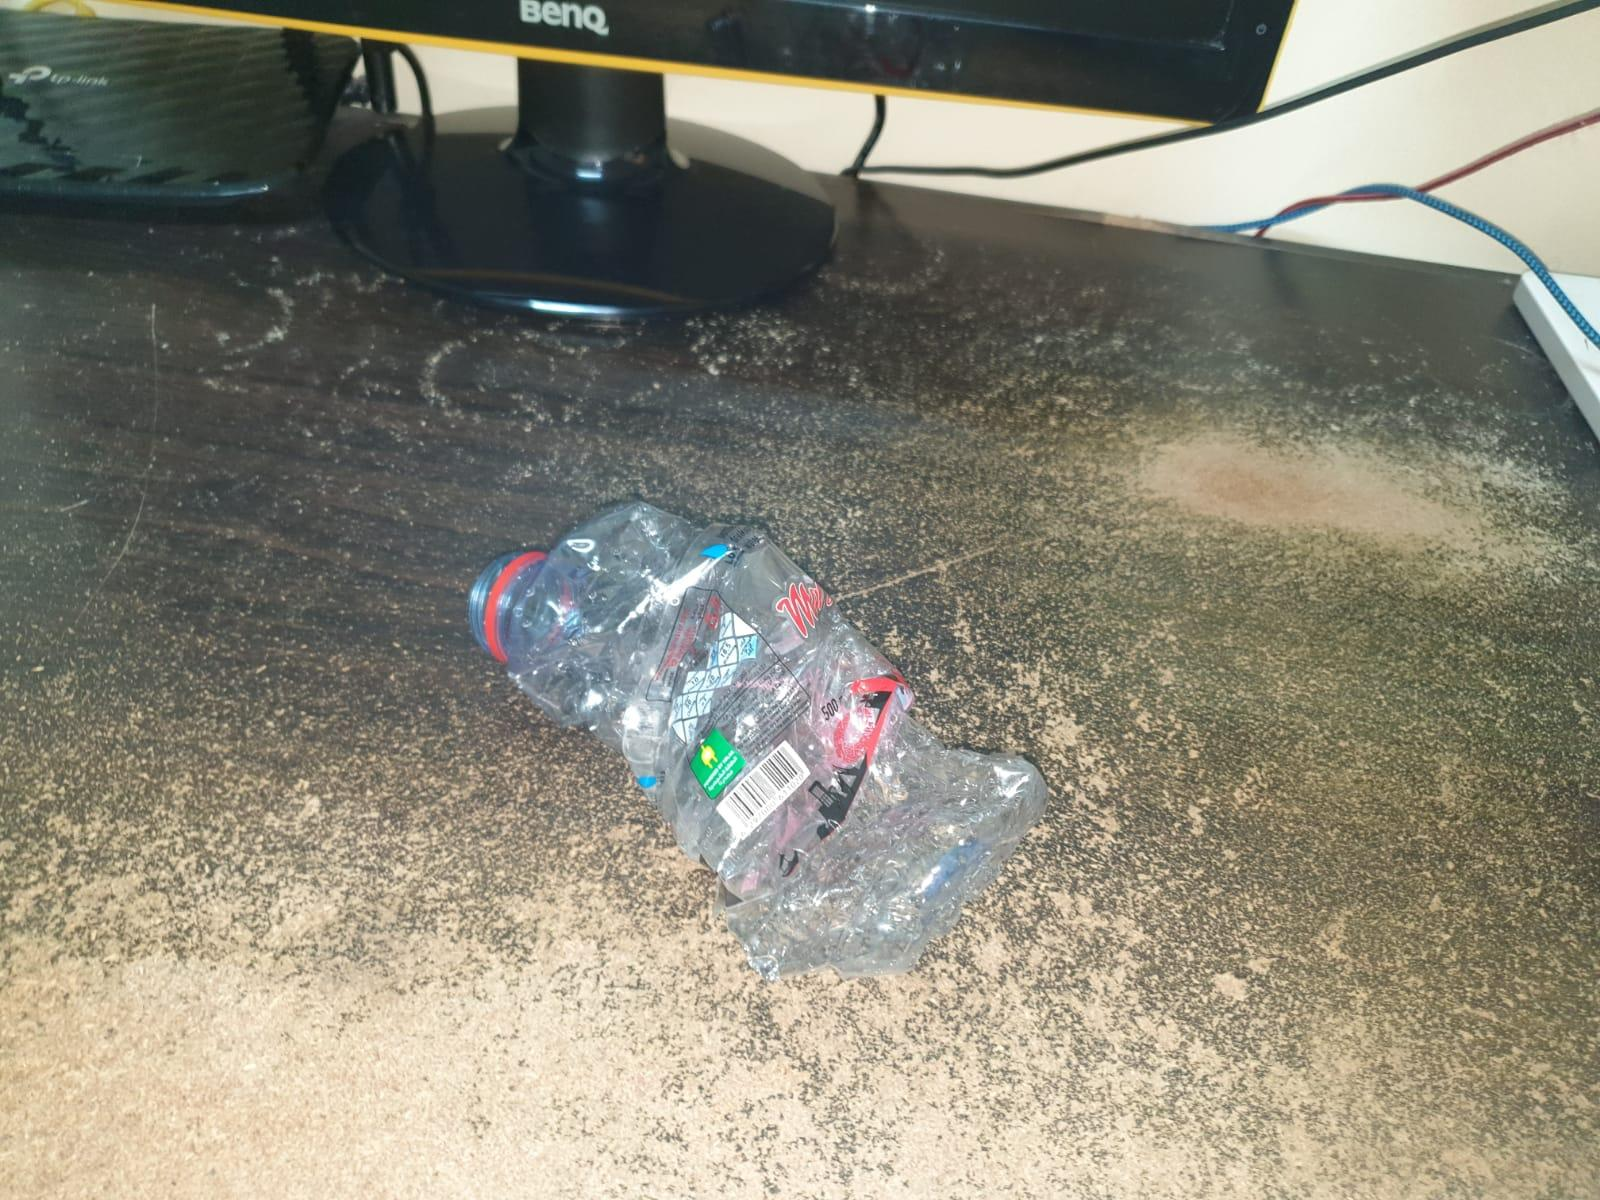bottle: (433, 498, 1056, 974)
